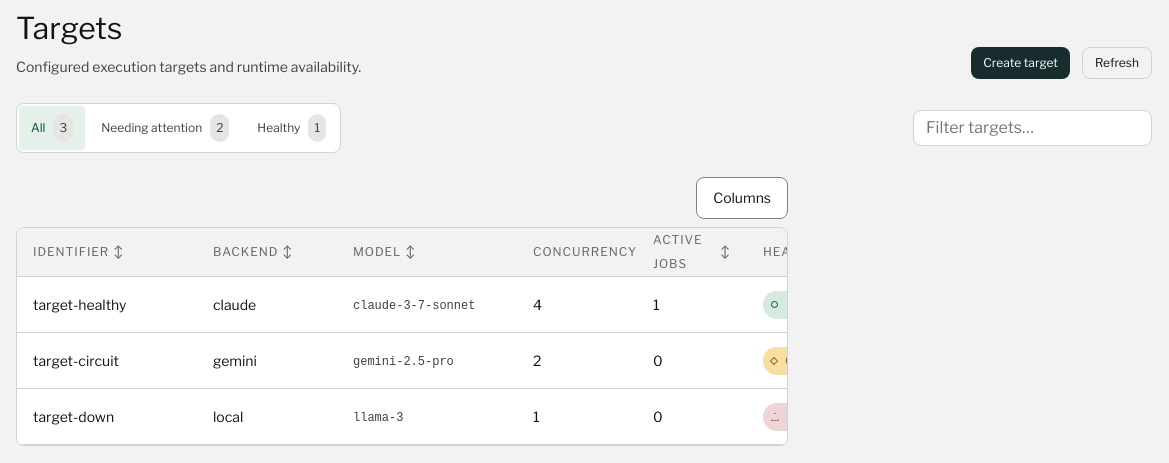
Targets screen › filters targets by status button and search query
expect the text "target-healthy" is shown: met, box x1=33 y1=296 x2=126 y2=312
// Filter by needing attention (circuit-open and down)
Click the button "Needing attention 2": x=165, y=128 x1=89 y1=106 x2=241 y2=150
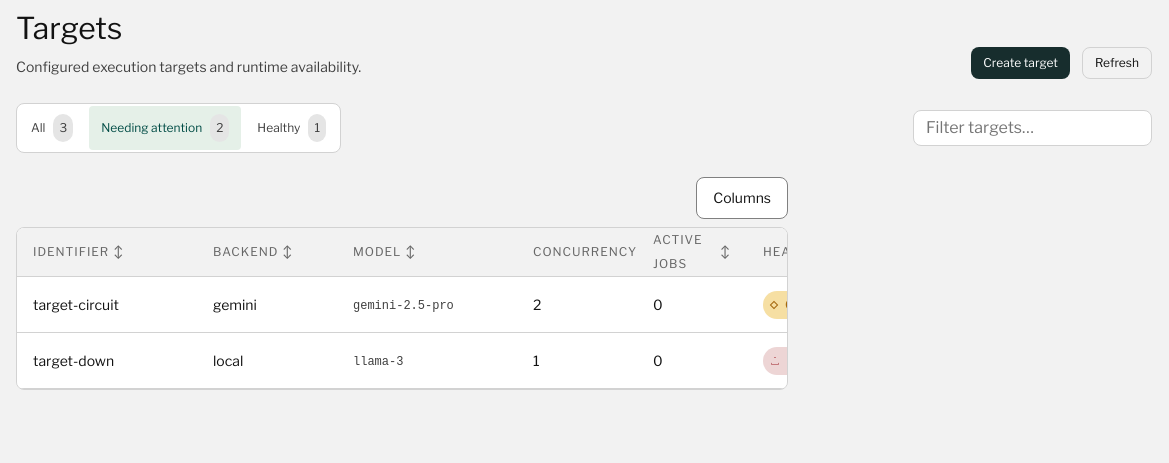
expect the text "target-circuit" is shown: met, box x1=33 y1=296 x2=119 y2=312
expect the text "target-healthy" is gone: met
